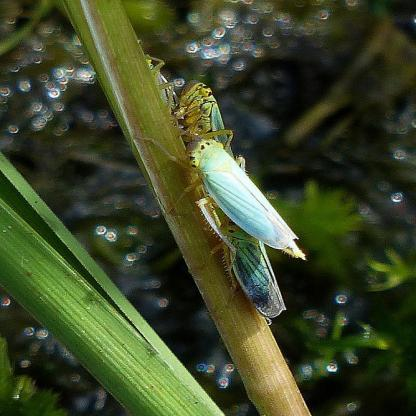Green-Leafhopper: (169, 129, 308, 269), (184, 178, 291, 324), (157, 64, 260, 192)
